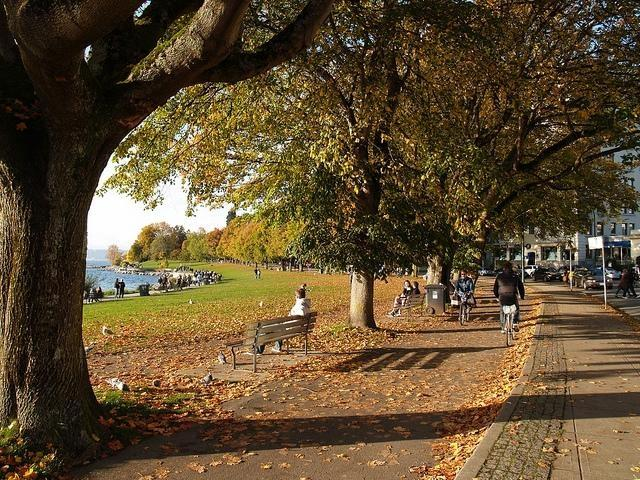bicycle: (456, 292, 472, 326), (504, 309, 515, 345), (631, 274, 640, 288)
car: (573, 269, 613, 291), (492, 266, 530, 280), (530, 267, 564, 282), (563, 264, 588, 282), (605, 267, 621, 280), (481, 270, 494, 276)
